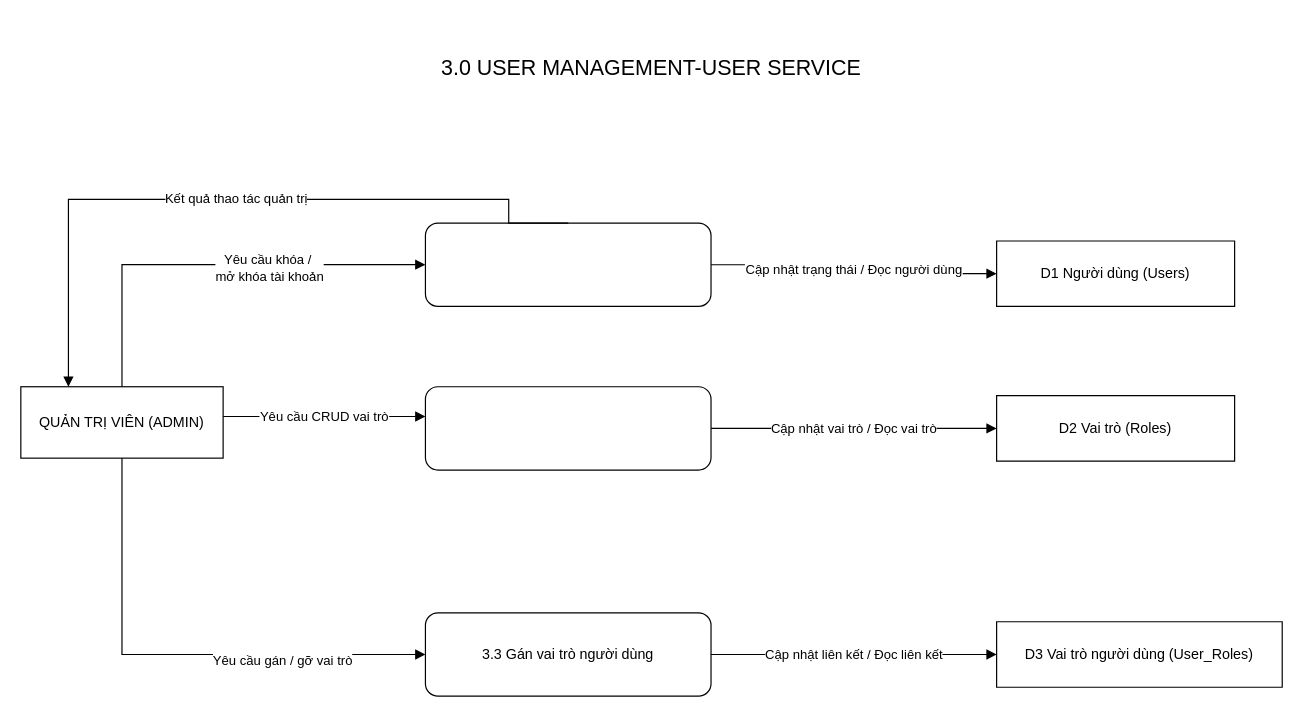
Image size: 1303x716. Some labels were removed from this diagram. The box of each missing label's shape, as (x1, y1, x2, y2) in pixels:
3.1 Quản lý trạng thái người dùng: (424, 222, 711, 306)
3.2 Quản lý vai trò: (424, 386, 711, 470)
